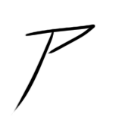a: (8, 21, 98, 114)
